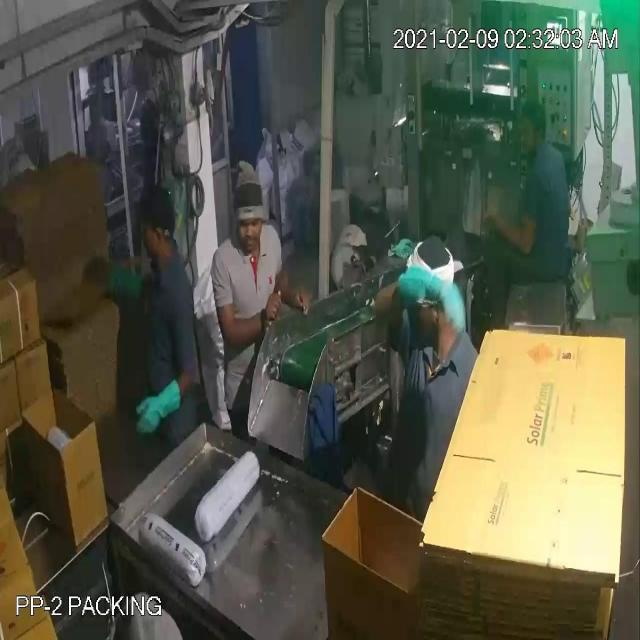Gloves: (52, 66, 511, 406)
